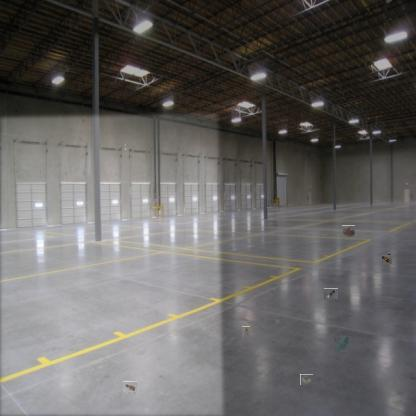dirty: (124, 381, 137, 393), (324, 288, 338, 299), (300, 374, 313, 385), (382, 254, 392, 264), (242, 328, 251, 336)
liquid: (335, 336, 349, 352), (342, 225, 355, 237)
